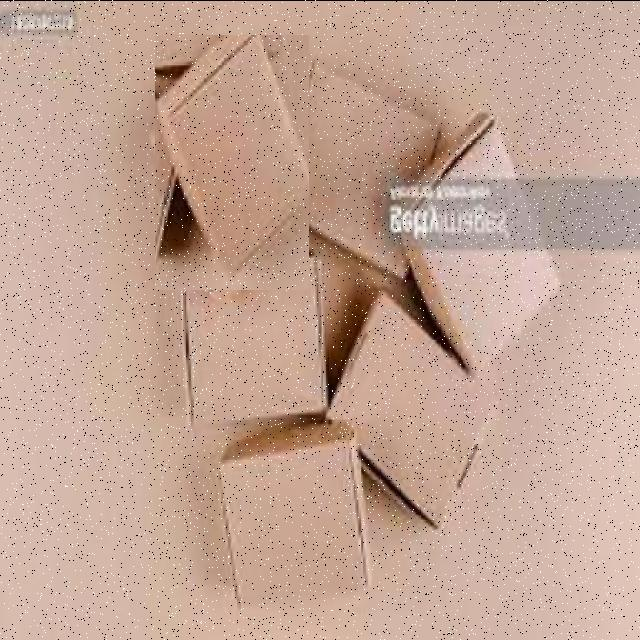normal: (156, 34, 310, 289), (213, 420, 369, 612), (178, 240, 334, 432)
